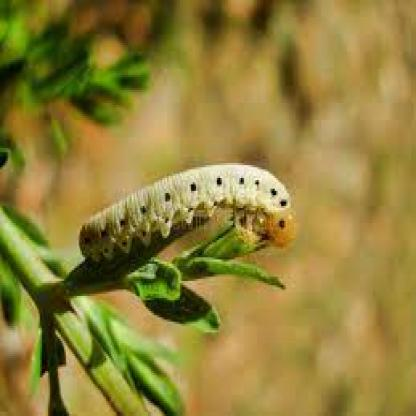sawfly: (72, 155, 302, 276)
